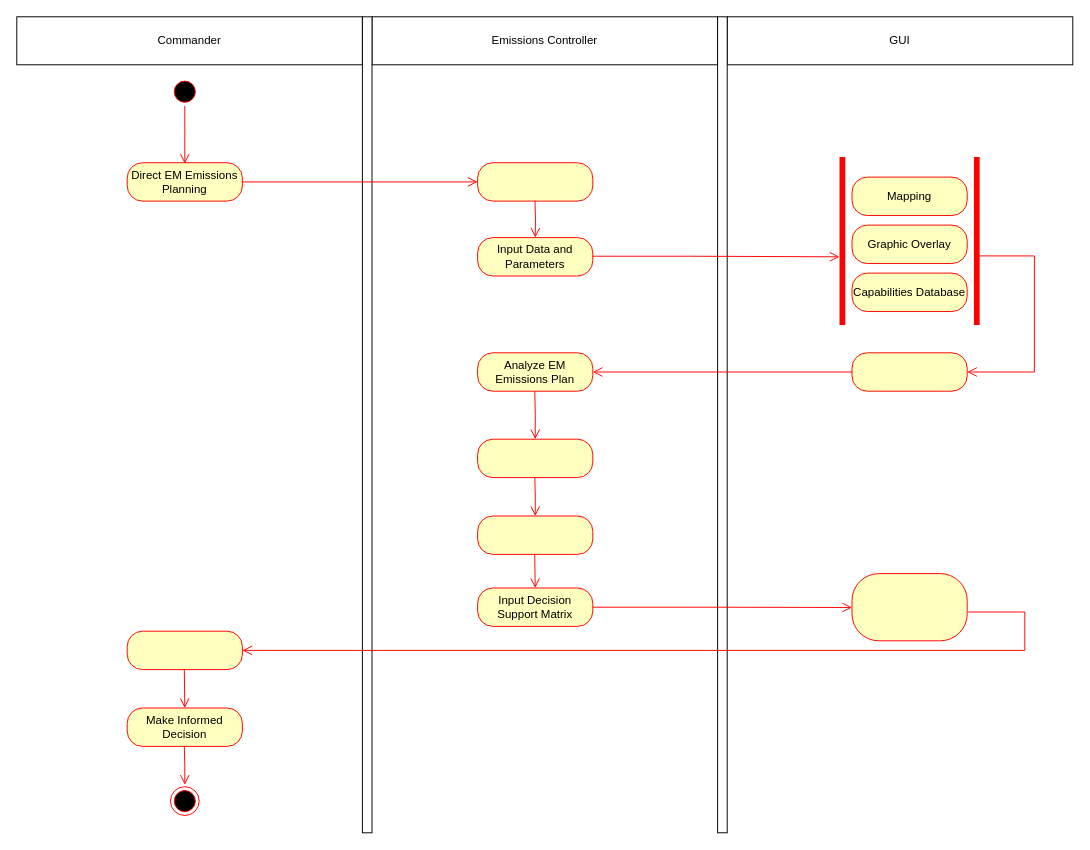
The diagram is 1090 pixels wide and 850 high, and some of its shapes have lost their labels. Each missing label, with the centre of its shape:
"Analyze Mission Parameters" goes at [535,181].
"Decision Support Matrix input into Common Operating Picture" goes at [909,607].
"Make EM Emissions Recommendations" goes at [535,534].
"Output Data Overlay Visuals" goes at [909,371].
"Refine Data Visualization" goes at [535,458].
"Use Decision Support Matrix" goes at [184,650].
